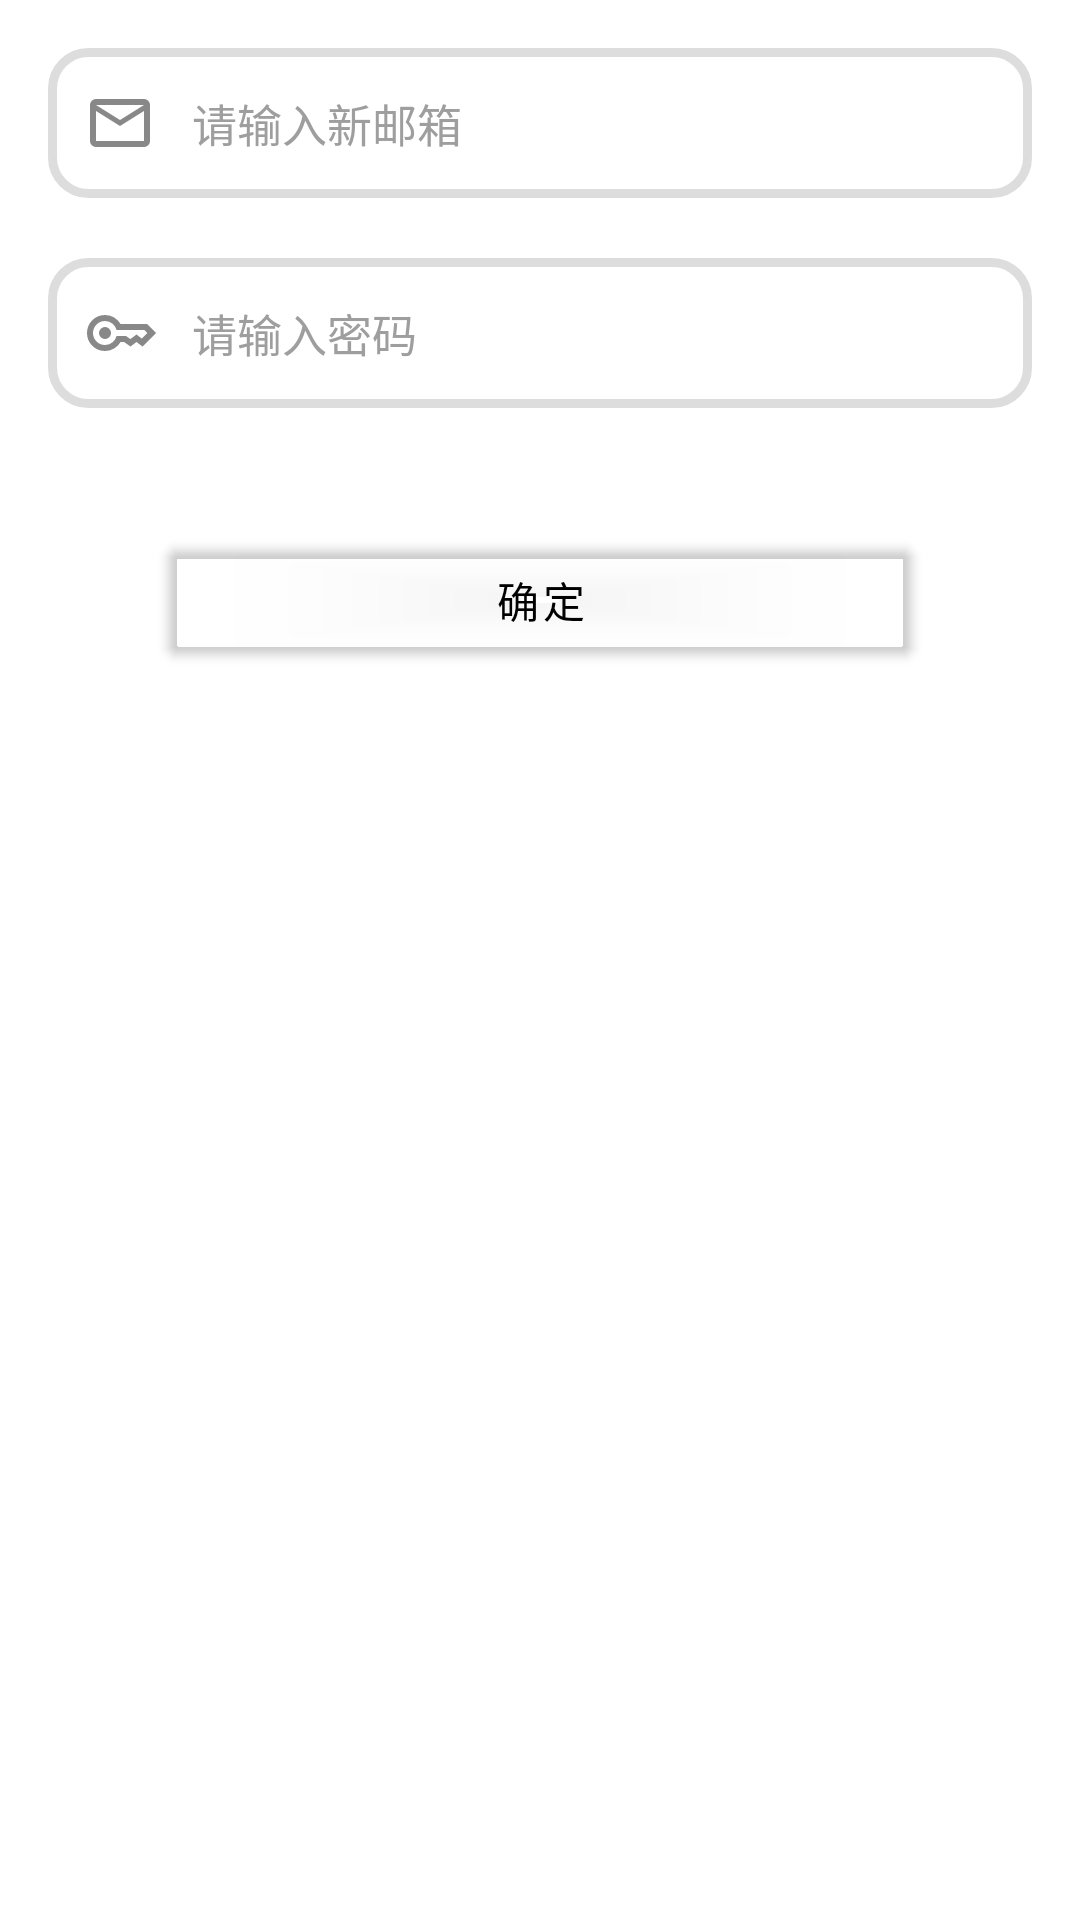

Named icons in this screenshot (1080w x 1920h) and their centers, point (x, y):
email: point (120, 123)
password: point (121, 333)
